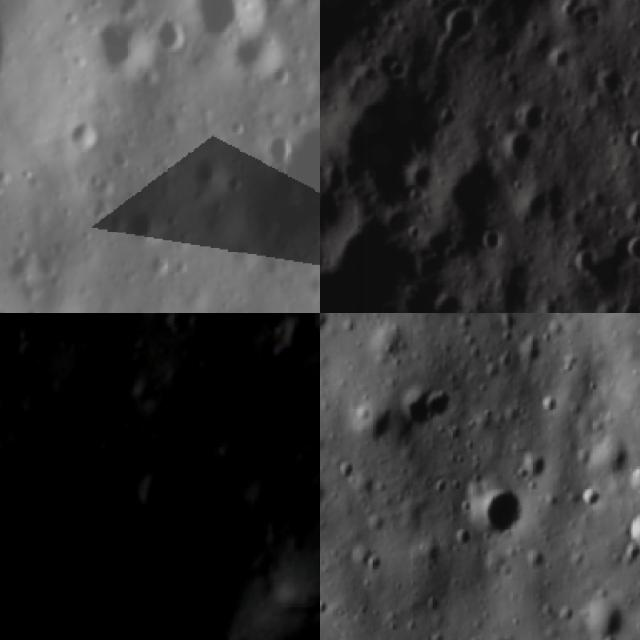crater: (36, 313, 177, 449), (327, 61, 439, 216), (213, 510, 285, 584), (470, 467, 536, 543), (83, 12, 150, 84), (126, 456, 194, 522), (400, 376, 460, 436), (263, 313, 320, 376), (284, 110, 320, 208), (576, 585, 634, 640), (190, 0, 265, 41), (118, 202, 169, 258), (186, 146, 232, 197), (0, 421, 36, 485), (25, 313, 122, 335), (506, 127, 547, 178), (563, 243, 609, 287), (0, 384, 36, 438), (91, 425, 132, 467), (520, 444, 560, 486), (470, 225, 513, 263), (403, 155, 440, 199), (616, 500, 640, 557), (66, 115, 101, 152), (157, 313, 205, 339), (182, 313, 225, 342), (428, 285, 469, 313), (12, 315, 45, 349), (616, 230, 640, 271), (215, 313, 248, 341), (621, 122, 640, 156), (320, 313, 338, 345)
